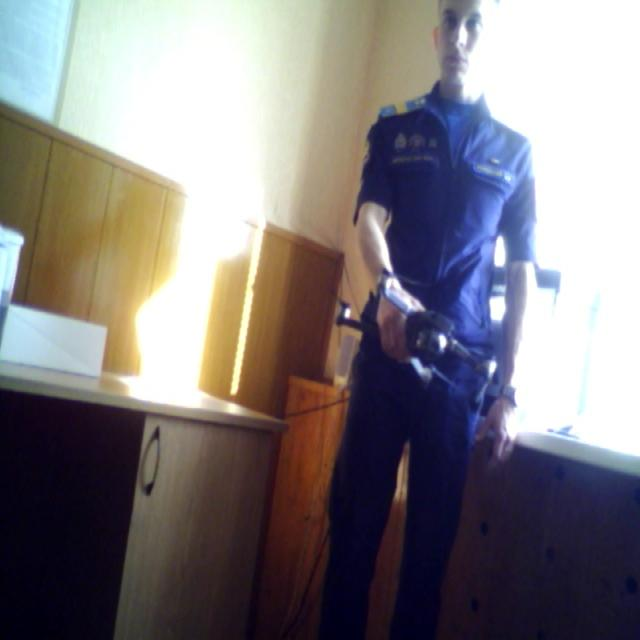drone: (317, 245, 520, 435)
